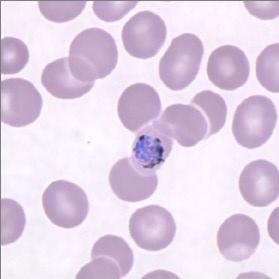Infected: (129, 127, 172, 172)
Uninfected: (70, 27, 118, 81), (158, 32, 203, 89), (232, 96, 277, 148), (41, 180, 89, 228), (117, 82, 162, 133), (108, 157, 159, 202), (122, 10, 168, 59), (42, 56, 94, 99), (129, 204, 176, 250), (217, 213, 260, 261), (0, 78, 42, 127), (161, 104, 207, 148), (238, 159, 279, 207), (207, 45, 249, 90), (91, 234, 134, 275), (192, 90, 228, 138)
